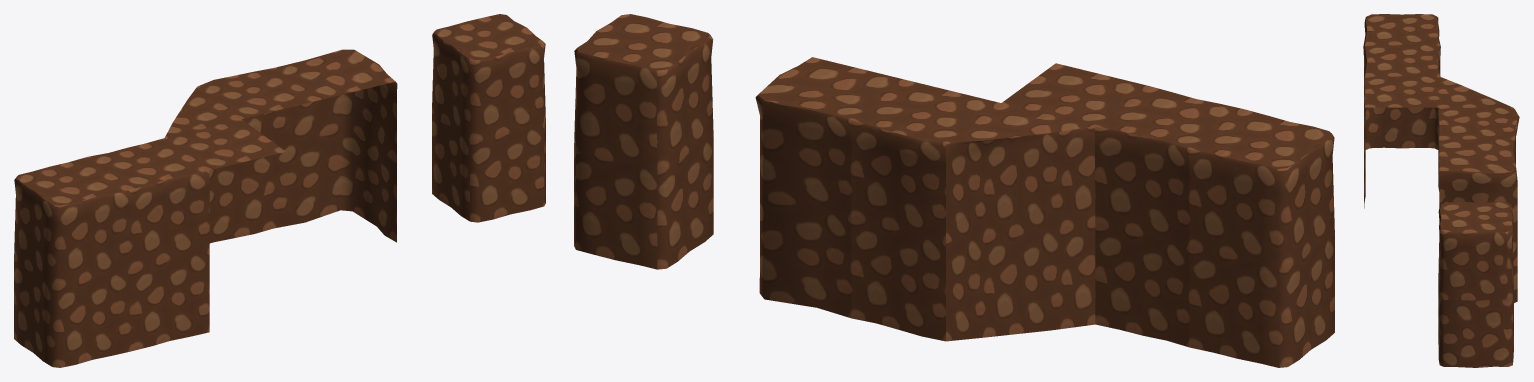
File: LandTiles.fbx
3 views of the same model, side by side, from view 1: azimuth 30°, elevation 25°; view 2: azimuth 150°, elevation 25°; view 3: azimuth 270°, elevation 25° (orthographic). The views are drawn at different scales.
Parts seen in each view (by area): view 1: Grass_SinglewideCap, Single, Corner_Cliff, Grass_Singlewide, Singelwidecap_cliff, SingleCliff, Corner, Singlewide_Cliff, Edge_Cliff, Edge, Middle, Slope; view 2: Grass_SinglewideCap, Single, Slope, Slope_cliff, Edge, Singelwidecap_cliff, Corner, Grass_Singlewide, SingleCliff, Edge_Cliff, Singlewide_Cliff, Corner_Cliff (+1 smaller); view 3: Single, SingleCliff, Corner, Singelwidecap_cliff, Grass_Singlewide, Edge, Middle, Grass_SinglewideCap, Slope, Corner_Cliff, Singlewide_Cliff.
Boxes of the visible parts, x1,y1,x2,y2 form: Grass_SinglewideCap: [14, 157, 132, 287]; Single: [432, 14, 545, 141]; Corner_Cliff: [273, 130, 396, 242]; Grass_Singlewide: [88, 138, 209, 270]; Singelwidecap_cliff: [14, 258, 132, 367]; SingleCliff: [432, 113, 545, 222]; Corner: [273, 49, 397, 161]; Singlewide_Cliff: [132, 251, 209, 350]; Edge_Cliff: [209, 155, 273, 243]; Edge: [197, 68, 318, 141]; Middle: [165, 119, 285, 170]; Slope: [164, 87, 241, 137]; Grass_SinglewideCap: [1189, 109, 1334, 268]; Single: [574, 14, 713, 170]; Slope: [945, 103, 1095, 242]; Slope_cliff: [946, 226, 1095, 341]; Edge: [851, 80, 1000, 242]; Singelwidecap_cliff: [1189, 234, 1334, 367]; Corner: [755, 57, 906, 219]; Grass_Singlewide: [1094, 86, 1244, 248]; SingleCliff: [574, 136, 713, 269]; Edge_Cliff: [851, 219, 945, 341]; Singlewide_Cliff: [1095, 225, 1189, 347]; Corner_Cliff: [759, 195, 851, 317]; Single: [1438, 202, 1513, 300]; SingleCliff: [1438, 277, 1513, 367]; Corner: [1438, 139, 1517, 236]; Singelwidecap_cliff: [1365, 107, 1438, 149]; Grass_Singlewide: [1364, 45, 1440, 140]; Edge: [1439, 107, 1519, 164]; Middle: [1365, 76, 1439, 107]; Grass_SinglewideCap: [1363, 14, 1440, 54]; Slope: [1439, 76, 1512, 107]; Corner_Cliff: [1512, 234, 1517, 302]; Singlewide_Cliff: [1364, 120, 1439, 208].
Size of the model in its own units: 703 by 201 by 211.
